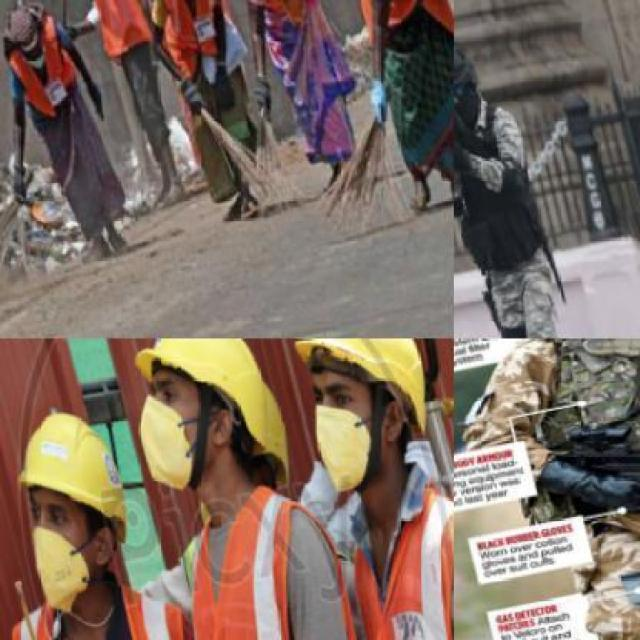Vest: (150, 472, 392, 638), (326, 482, 452, 638), (522, 339, 638, 503), (454, 95, 549, 277), (0, 576, 229, 638), (0, 31, 85, 120), (148, 0, 245, 74), (337, 0, 452, 49), (72, 0, 156, 58), (235, 0, 331, 28)
